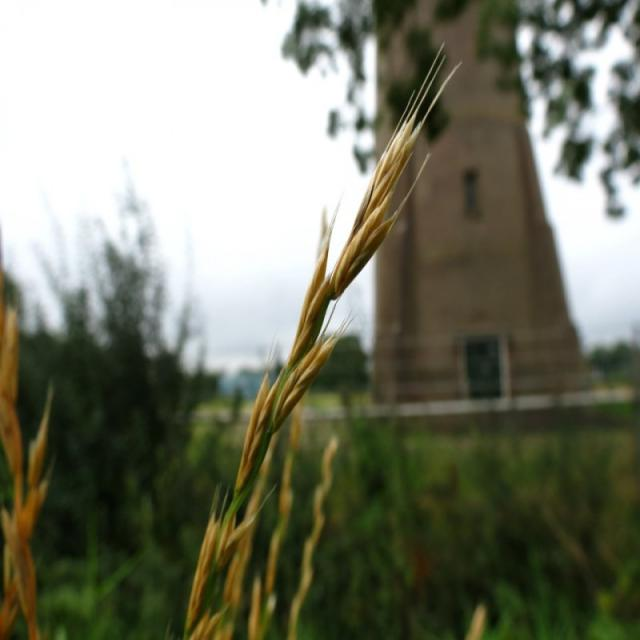Lolium: (179, 39, 465, 637)
